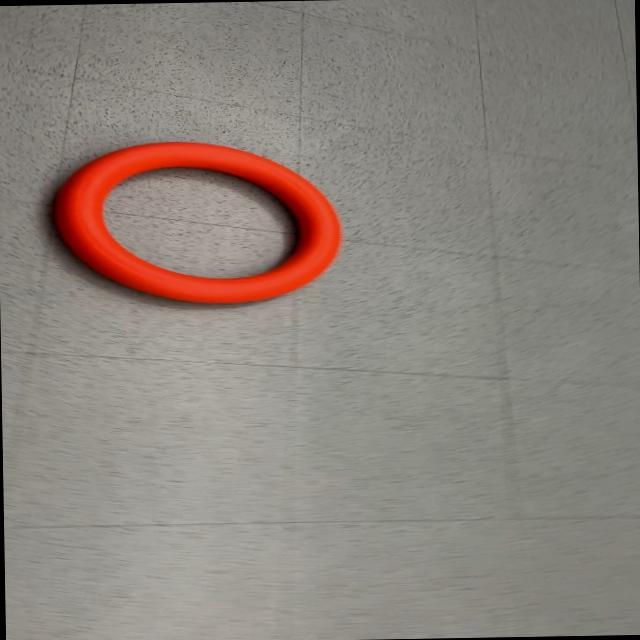note: (52, 136, 344, 308)
